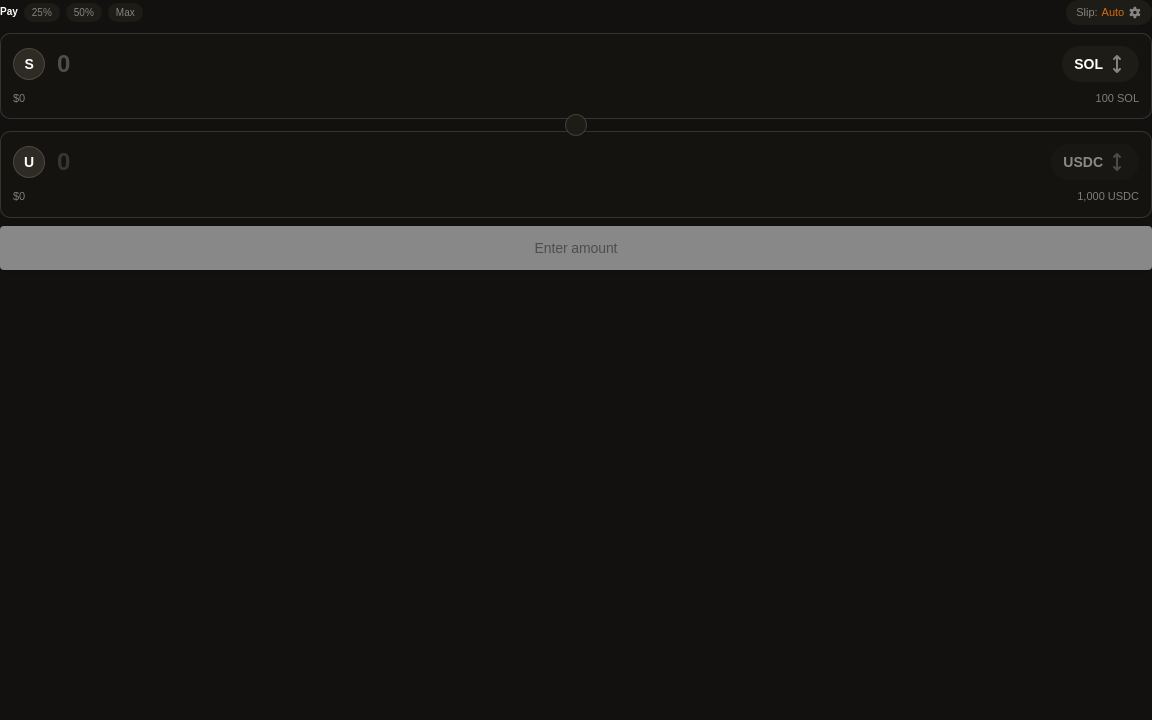
SwapWidget › Slippage Popover › should update slippage on selection
Step 1. Click the button with aria-label "slippage tolerance" → (1109, 12), box [1066,0,1151,24]
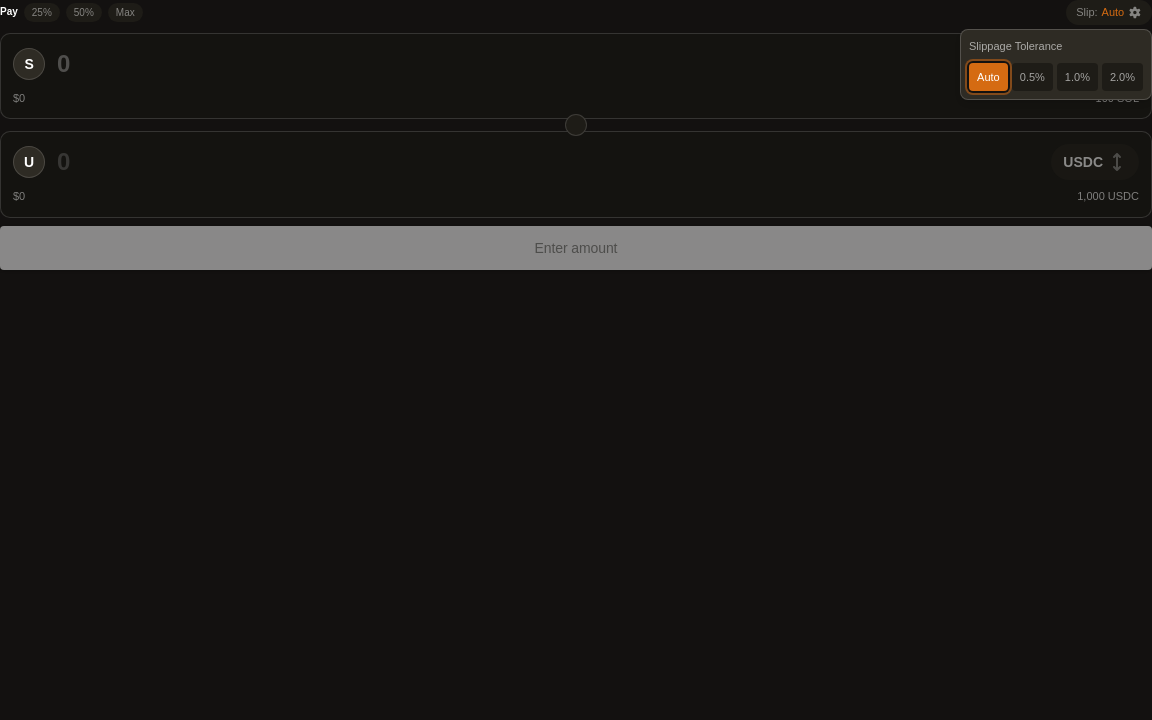
Step 2. Click the radio button labelled "1.0%" → (1077, 77), box [1057,62,1098,91]
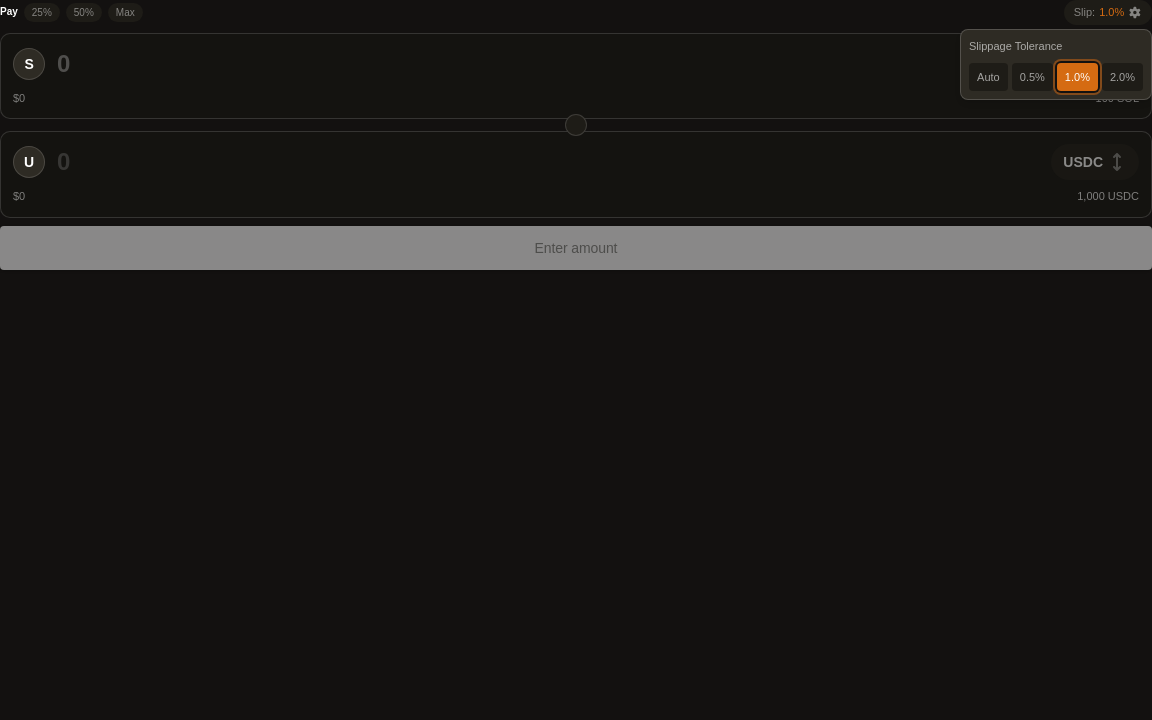
Now the button with aria-label "slippage tolerance: 1.0%" is shown, box [1064,0,1151,24]
